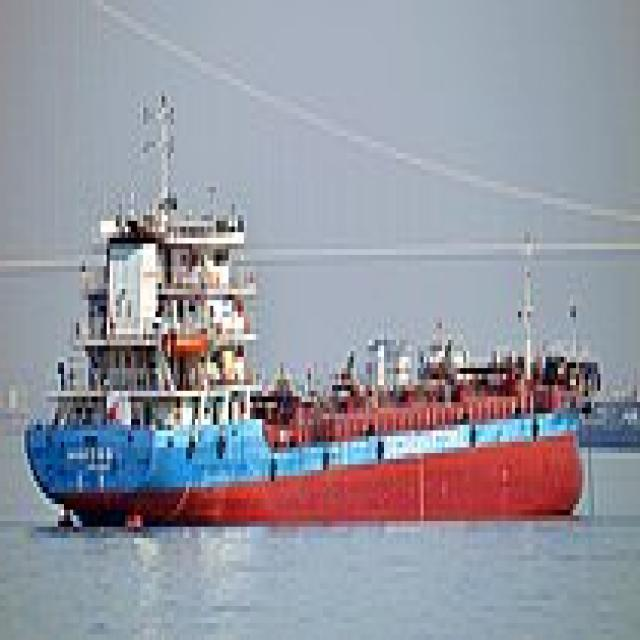Tanker: (24, 85, 606, 521)
